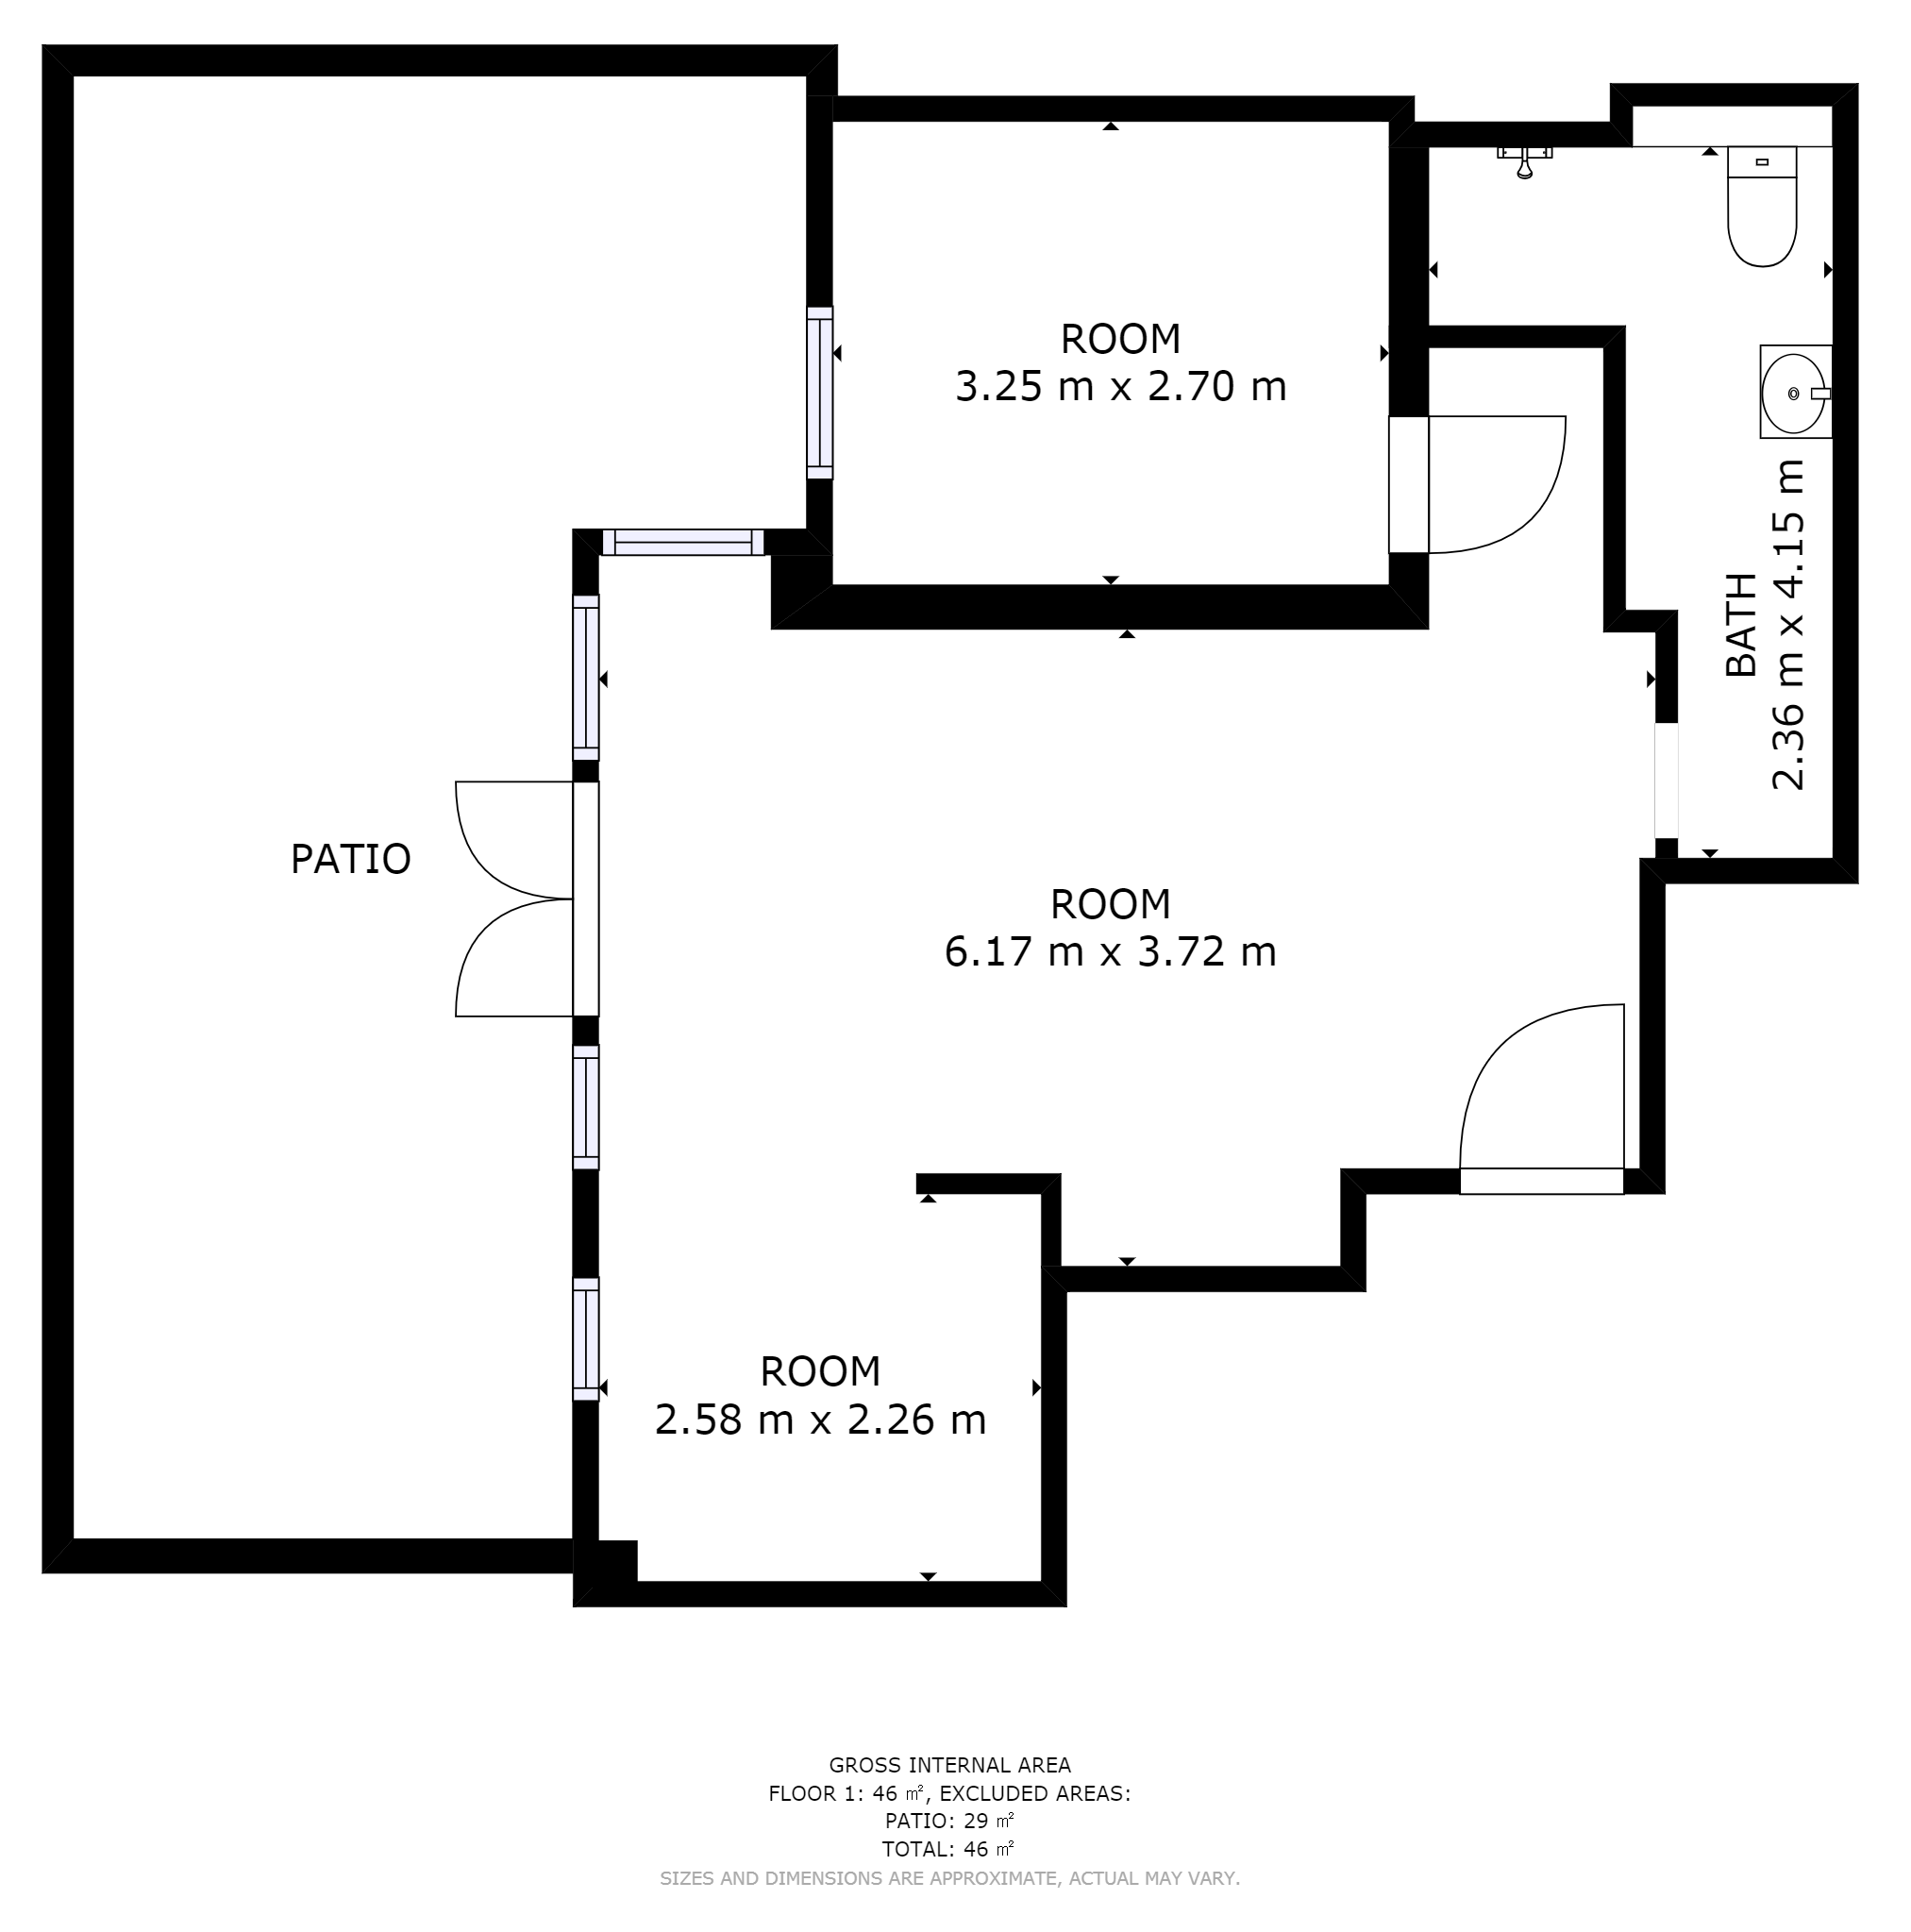door: (1456, 991, 1627, 1157), (1438, 404, 1570, 565), (448, 745, 562, 898), (431, 901, 560, 1029)
wall: (45, 44, 70, 1559), (772, 586, 1430, 626), (117, 45, 817, 77), (1834, 82, 1858, 878), (833, 96, 1416, 123), (1603, 329, 1626, 630)
window: (598, 528, 765, 556), (807, 304, 833, 479), (574, 593, 597, 758), (572, 1045, 598, 1167), (574, 1277, 598, 1400)
